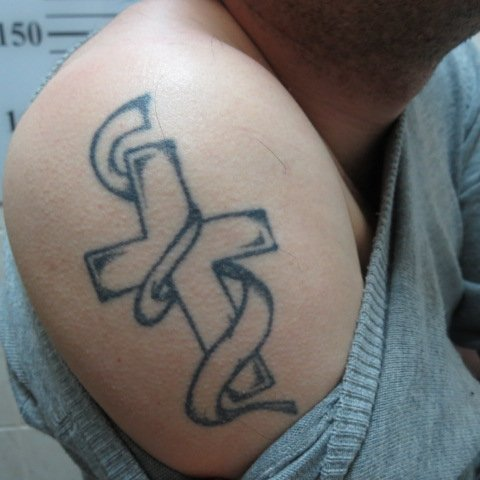tatu9_krest: (73, 88, 319, 437)
